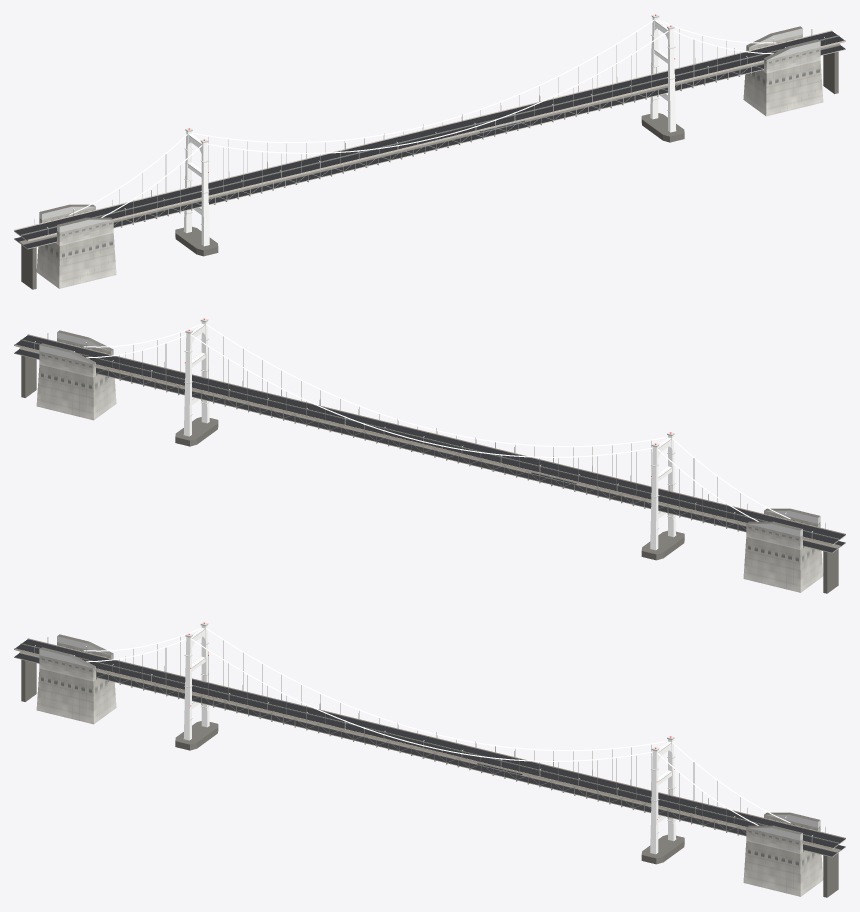
Rendered from rainbow_bridge.glb.
3 views of the same model, one above another, from view 1: azimuth 30°, elevation 25°; view 2: azimuth 150°, elevation 25°; view 3: azimuth 330°, elevation 25° (orthographic).
Visible parts, largest first — view 1: rainbow_bridge; view 2: rainbow_bridge; view 3: rainbow_bridge.
Part boxes in pixels (x1=…): rainbow_bridge: x1=14, y1=14, x2=845, y2=289; rainbow_bridge: x1=14, y1=318, x2=845, y2=593; rainbow_bridge: x1=14, y1=622, x2=845, y2=897.
Size of the model in its own units: 1000 by 129 by 60.
2 materials, 2 textured.
